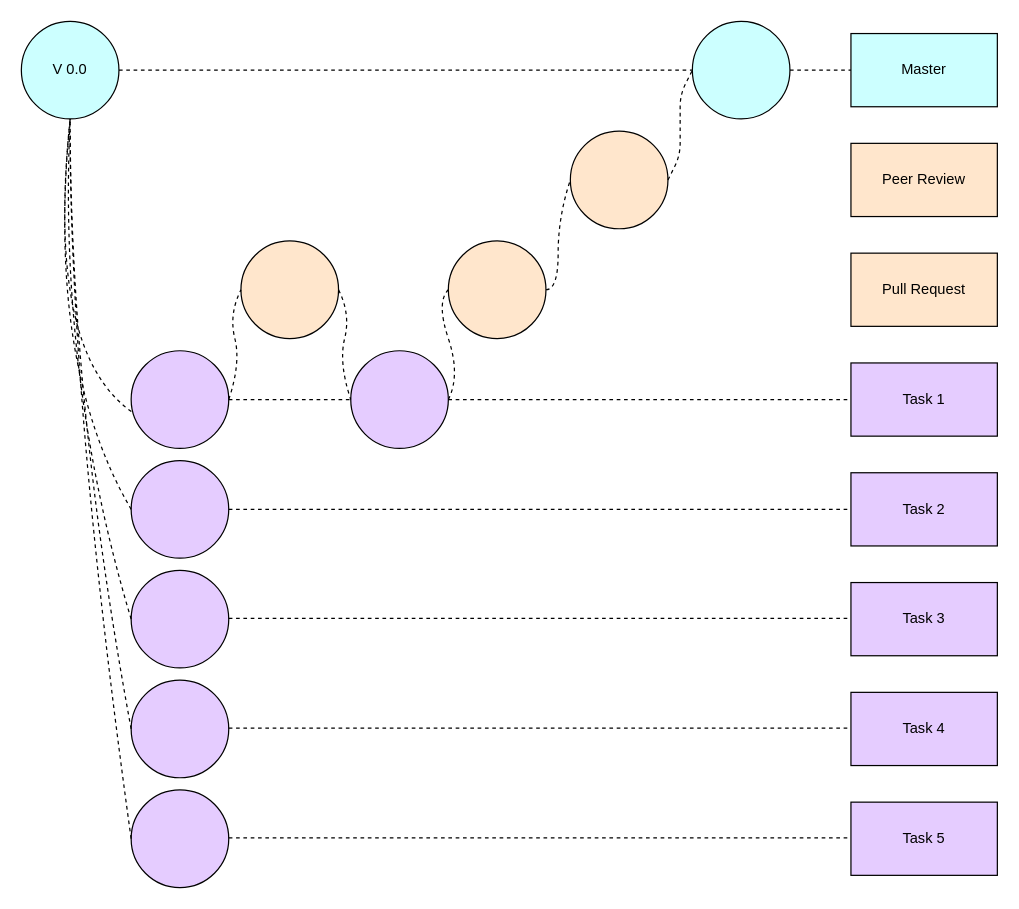
Some shapes in this 1019 by 909 pixel diagram are drawn without their labels. The shapes that lost their labels are listed below. From the top down, each one's centre as x and y in pixels, then its label:
At point 740,69: "V 0.1".
At point 399,399: "Merge Errors".
